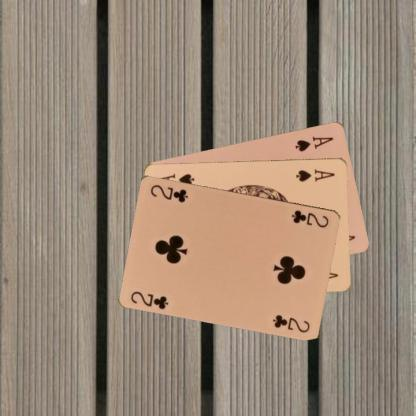2c: (128, 288, 170, 310), (289, 207, 330, 229)
As: (292, 134, 335, 152), (294, 166, 336, 182)
